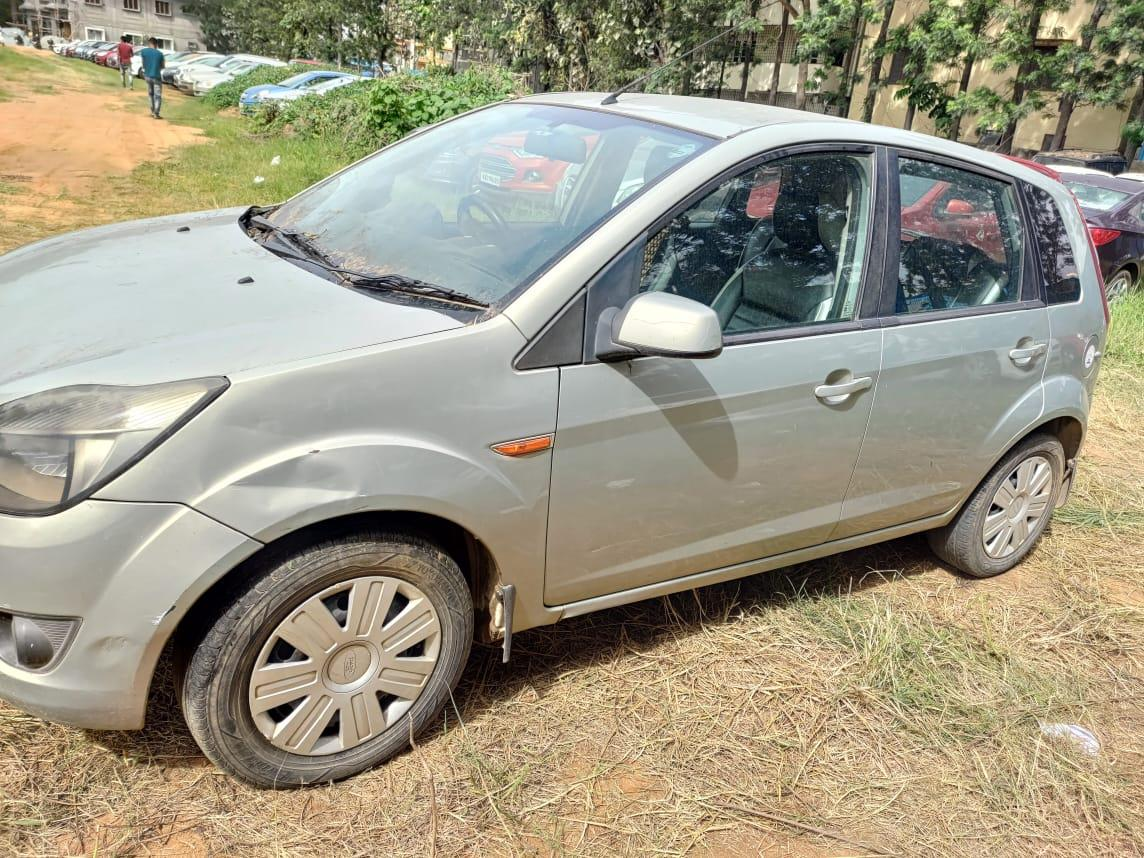fender-dent: (199, 380, 556, 576)
front-bumper-dent: (0, 499, 194, 729)
